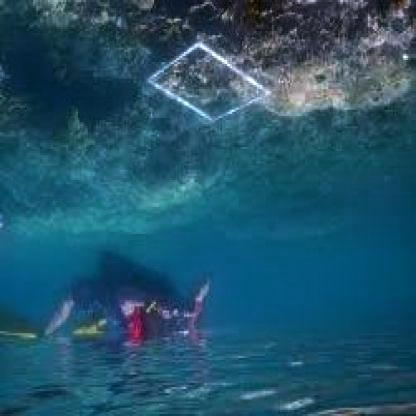metal: (154, 29, 265, 137)
